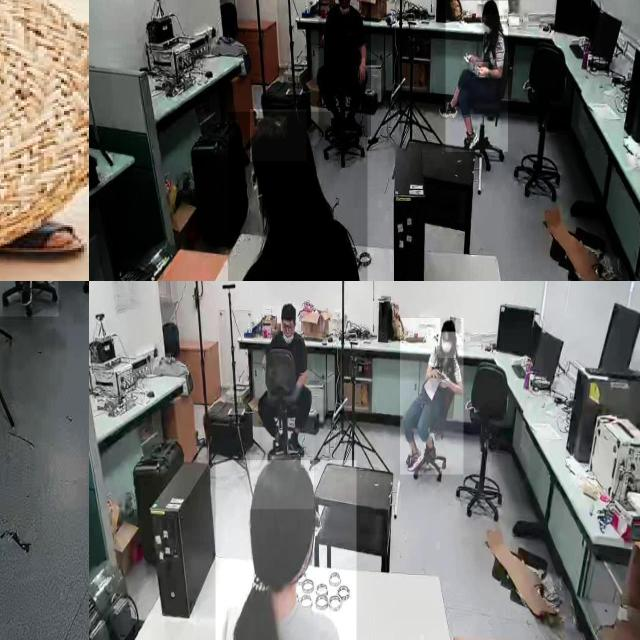face_mask: (438, 331, 456, 358), (482, 14, 496, 38)
hand_noglove: (357, 58, 366, 87), (463, 49, 477, 66), (475, 62, 489, 78), (440, 372, 450, 388), (432, 367, 441, 379)
head_nohelmet: (250, 455, 314, 510), (250, 109, 307, 163), (280, 302, 296, 318), (481, 0, 498, 15), (440, 318, 456, 333)
person: (215, 460, 356, 640), (228, 111, 368, 281), (400, 318, 464, 475), (446, 1, 508, 152), (263, 306, 315, 456), (318, 0, 371, 136)
shoes: (460, 120, 480, 154), (286, 428, 306, 460), (438, 95, 458, 122), (406, 446, 424, 476), (18, 281, 33, 308), (427, 430, 438, 466)
